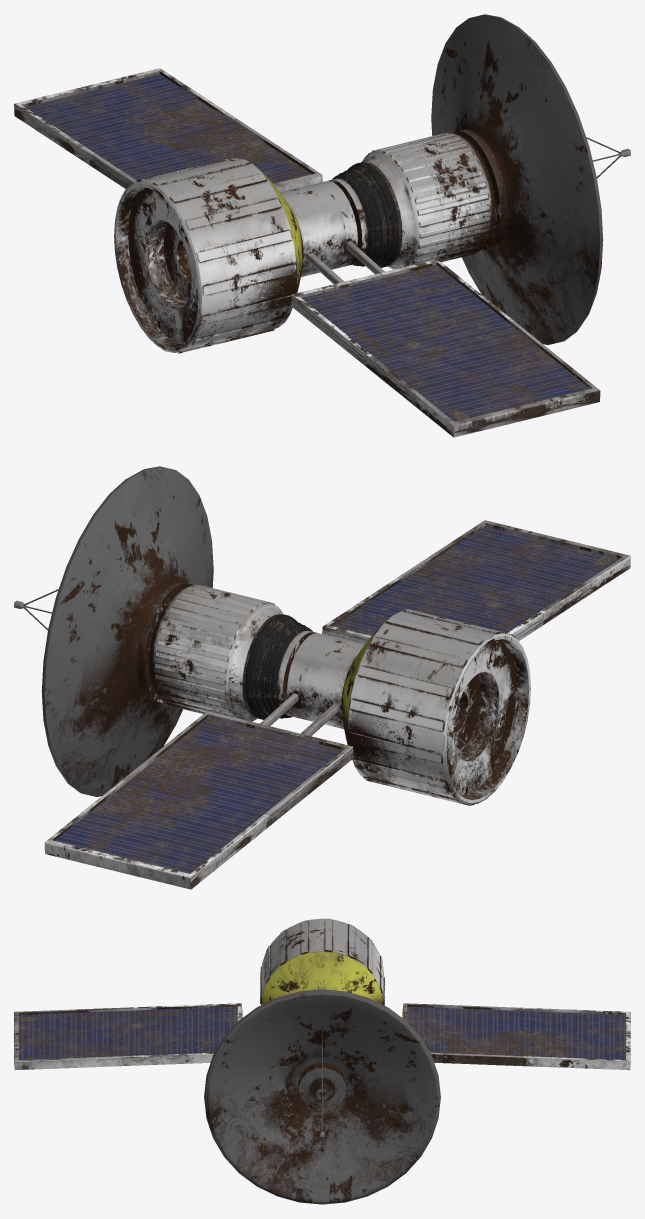
3 views of the same model, one above another, from view 1: azimuth 30°, elevation 25°; view 2: azimuth 150°, elevation 25°; view 3: azimuth 270°, elevation 25° (orthographic). The views are drawn at different scales.
Visible parts, largest first — view 1: object 2, Placas, Couro; view 2: object 2, Placas, Couro; view 3: object 2, Placas.
Boxes of the visible parts, <box> form: object 2: <box>114,14,618,353</box>; Placas: <box>14,68,600,437</box>; Couro: <box>332,162,402,267</box>; object 2: <box>26,466,530,805</box>; Placas: <box>44,520,630,889</box>; Couro: <box>242,614,312,719</box>; object 2: <box>204,918,440,1204</box>; Placas: <box>14,1003,630,1070</box>.
Size of the model in its own units: 1.24 by 0.7676 by 2.
5 materials, 5 textured.
